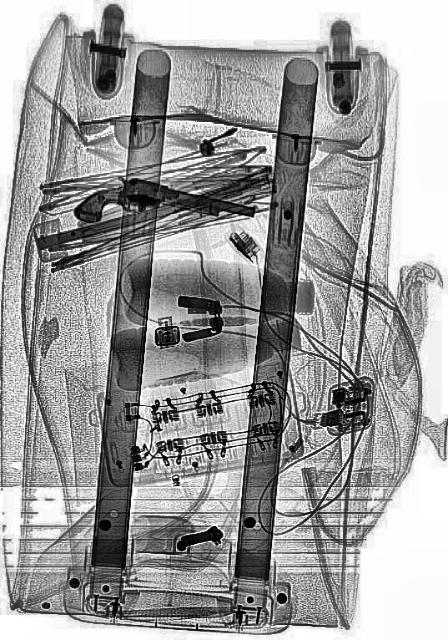Gun: (70, 164, 254, 256)
